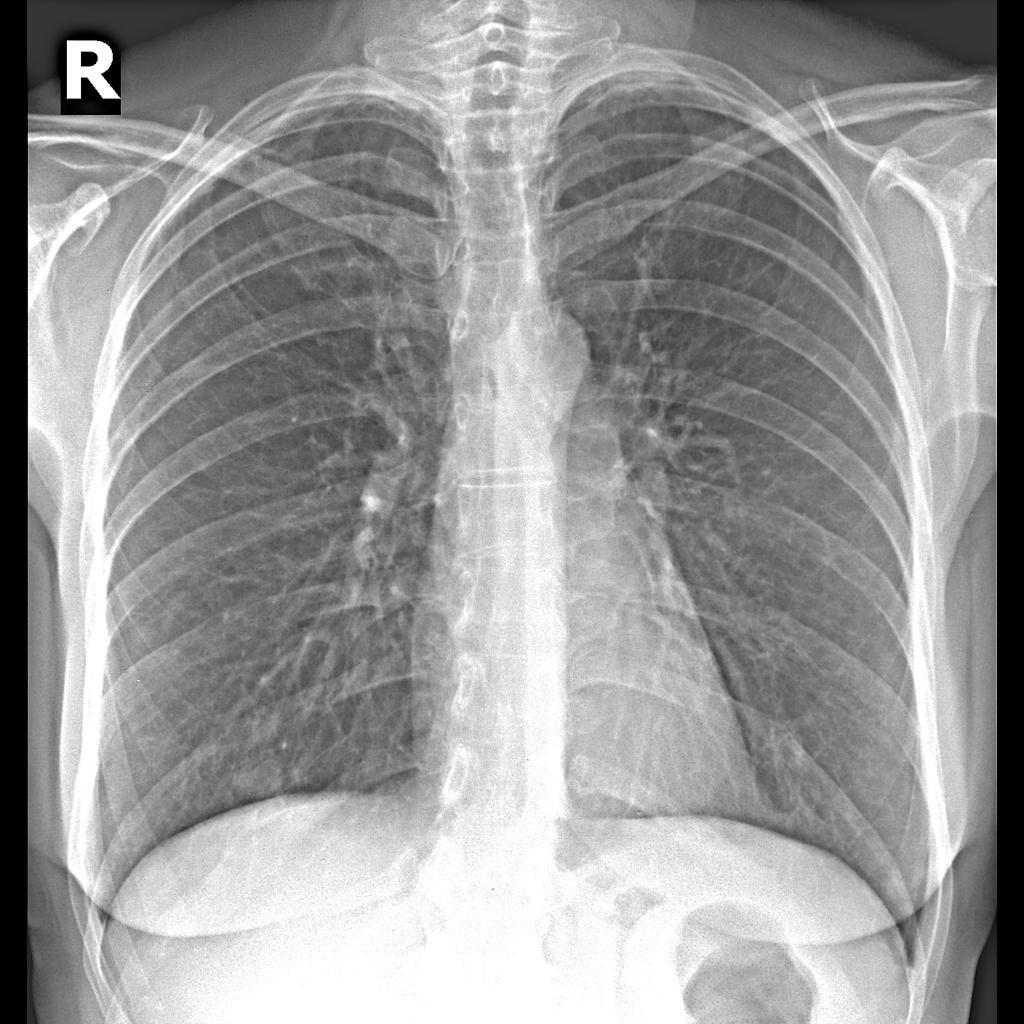Nodule: (218, 745, 293, 814)
